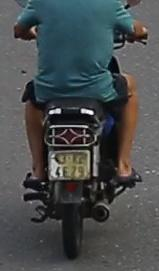LP: (45, 149, 92, 183)
